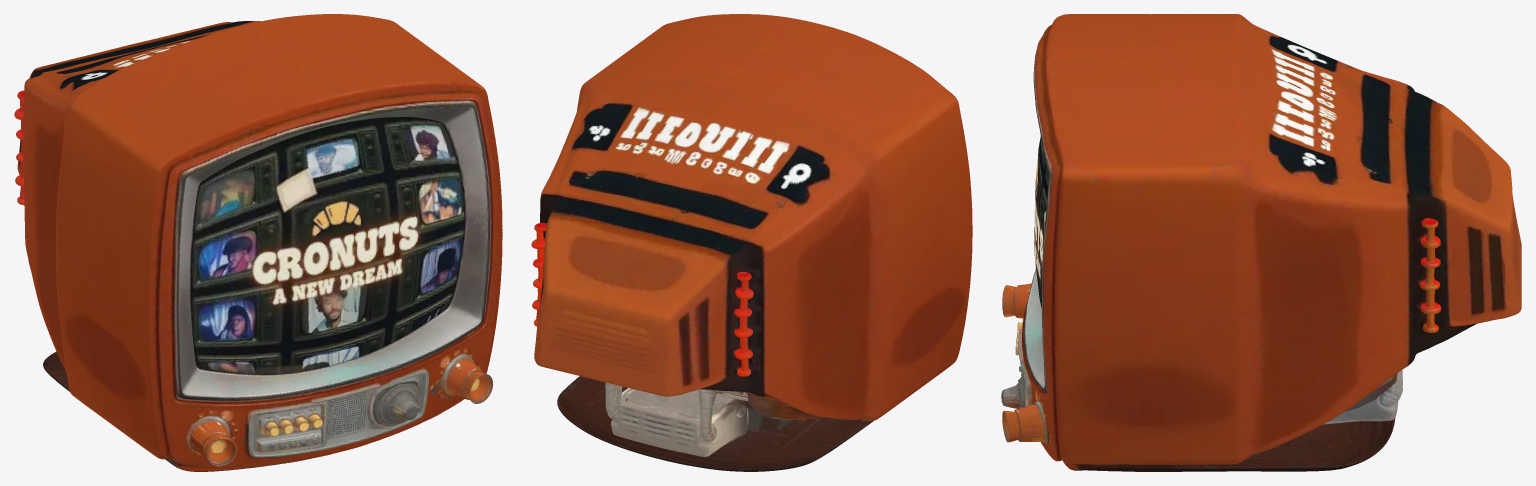
Rendered from Meshy_AI_Cronuts_A_New_Dream_0717200127_texture-optimized_rjpxfn.glb.
3 views of the same model, side by side, from view 1: azimuth 30°, elevation 25°; view 2: azimuth 150°, elevation 25°; view 3: azimuth 270°, elevation 25° (orthographic). The views are drawn at different scales.
Bounding box in the file's own units: 1.48 × 1.44 × 1.9.
1 material, 1 textured.
